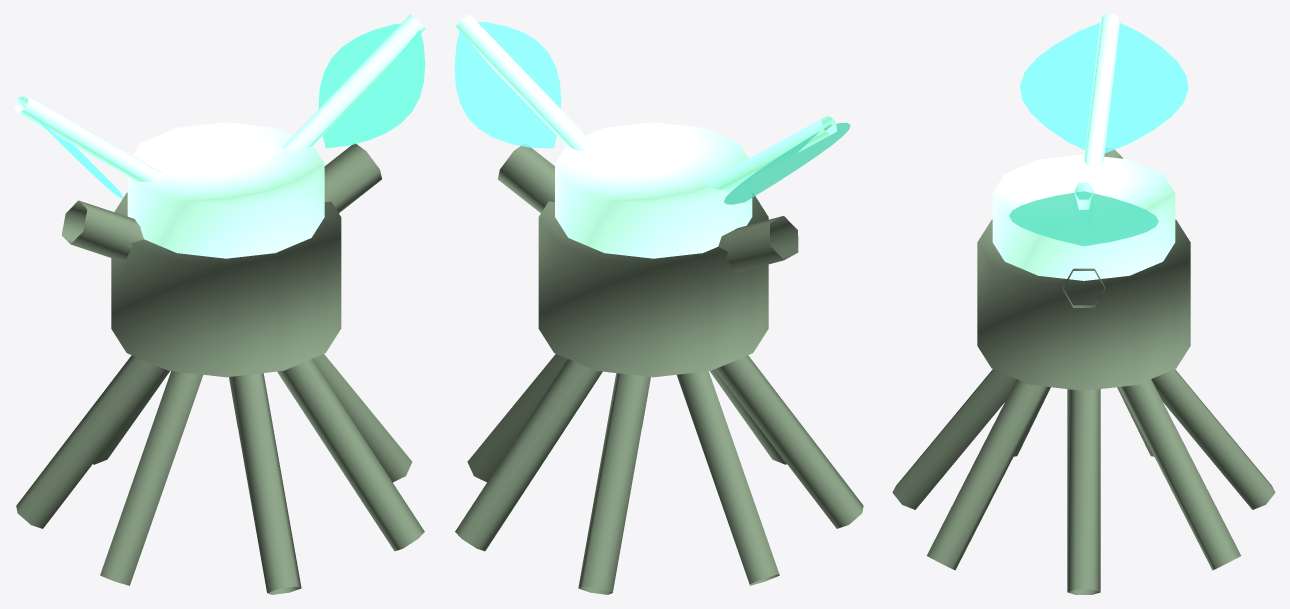
Rendered from aquaglow-sprout.glb.
3 views of the same model, side by side, from view 1: azimuth 30°, elevation 25°; view 2: azimuth 150°, elevation 25°; view 3: azimuth 270°, elevation 25° (orthographic). The views are drawn at different scales.
Parts seen in each view (by area): view 1: shell-material-7-0, shell-material-8-0, shell-material-5-0, shell-material-6-0; view 2: shell-material-7-0, shell-material-8-0, shell-material-5-0, shell-material-6-0; view 3: shell-material-7-0, shell-material-5-0, shell-material-8-0, shell-material-6-0.
Boxes of the visible parts, x1=… form: shell-material-7-0: x1=16, y1=144, x2=424, y2=594; shell-material-8-0: x1=127, y1=122, x2=324, y2=258; shell-material-5-0: x1=18, y1=23, x2=425, y2=198; shell-material-6-0: x1=14, y1=14, x2=425, y2=182; shell-material-7-0: x1=455, y1=146, x2=863, y2=594; shell-material-8-0: x1=555, y1=122, x2=752, y2=258; shell-material-5-0: x1=454, y1=22, x2=850, y2=204; shell-material-6-0: x1=454, y1=14, x2=836, y2=191; shell-material-7-0: x1=892, y1=149, x2=1275, y2=594; shell-material-5-0: x1=1009, y1=23, x2=1188, y2=246; shell-material-8-0: x1=992, y1=154, x2=1175, y2=280; shell-material-6-0: x1=1074, y1=14, x2=1120, y2=209.
Size of the model in its own units: 0.5513 by 0.6149 by 0.5031.
